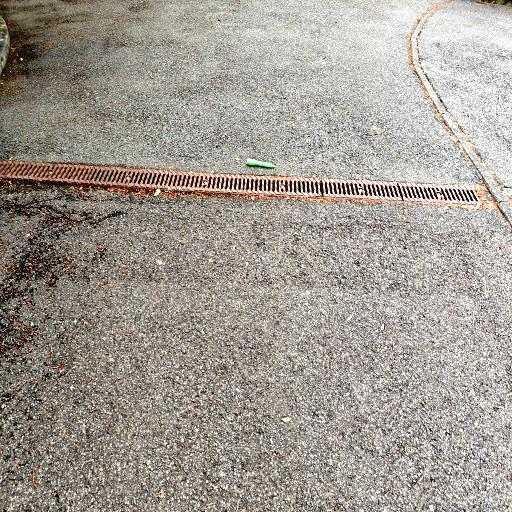Probe-Detection: (247, 158, 275, 168)
